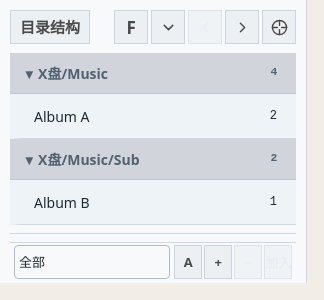
Test: SidebarPanel music interactions › 音乐模式折叠指针仅隐藏直属专辑，保留下级指针
Double-click the button "▾ X盘/Music 4".
double_click(73, 74)  # box [10,53,296,93]
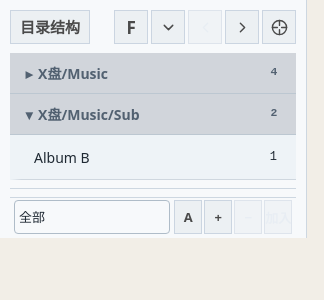
Expected: the button "▾ X盘/Music/Sub 2" is shown, [10,94,296,134]
Now the button "Album A" is gone
